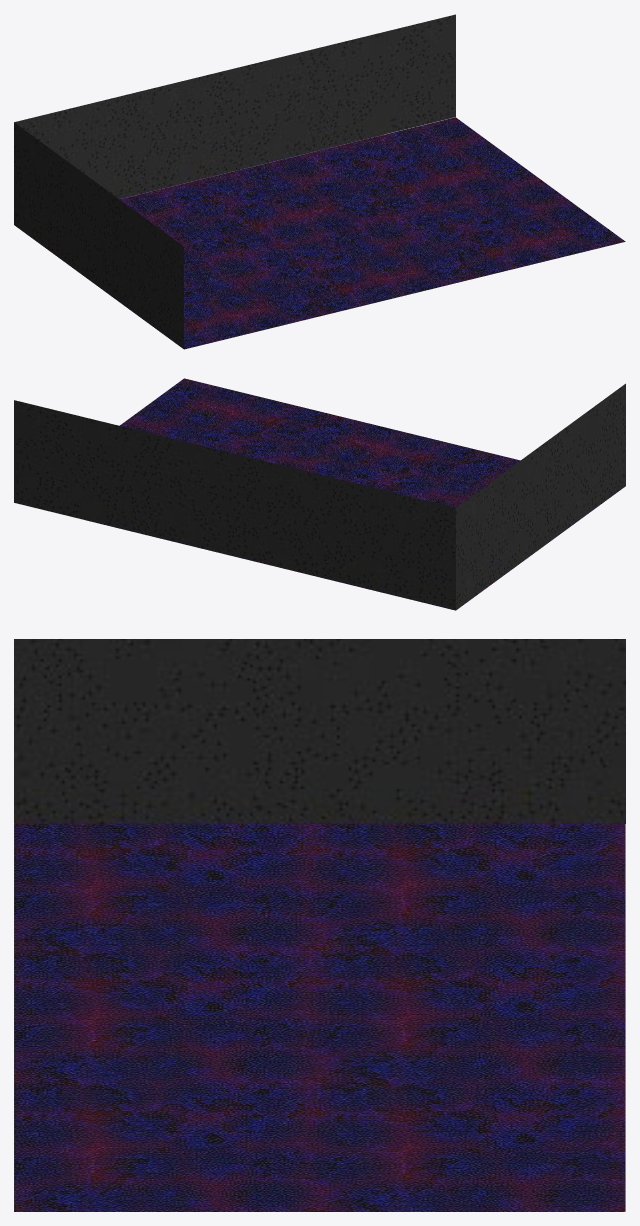
Rendered from GleepRoom.glb.
3 views of the same model, one above another, from view 1: azimuth 30°, elevation 25°; view 2: azimuth 150°, elevation 25°; view 3: azimuth 270°, elevation 25° (orthographic). The views are drawn at different scales.
Parts seen in each view (by area): view 1: Cube; view 2: Cube; view 3: Cube.
Boxes of the visible parts, x1=… form: Cube: x1=14, y1=14, x2=625, y2=349; Cube: x1=14, y1=378, x2=625, y2=610; Cube: x1=14, y1=639, x2=625, y2=1211.
Bounding box in the file's own units: 9 × 2 × 6.
1 material, 1 textured.
